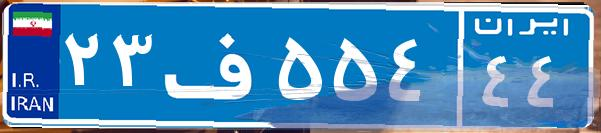2: (57, 26, 110, 107)
3: (110, 28, 158, 105)
4: (385, 28, 445, 110), (475, 38, 525, 113), (525, 38, 570, 115)
5: (273, 28, 330, 110), (330, 28, 385, 110)
ف: (158, 15, 273, 115)
